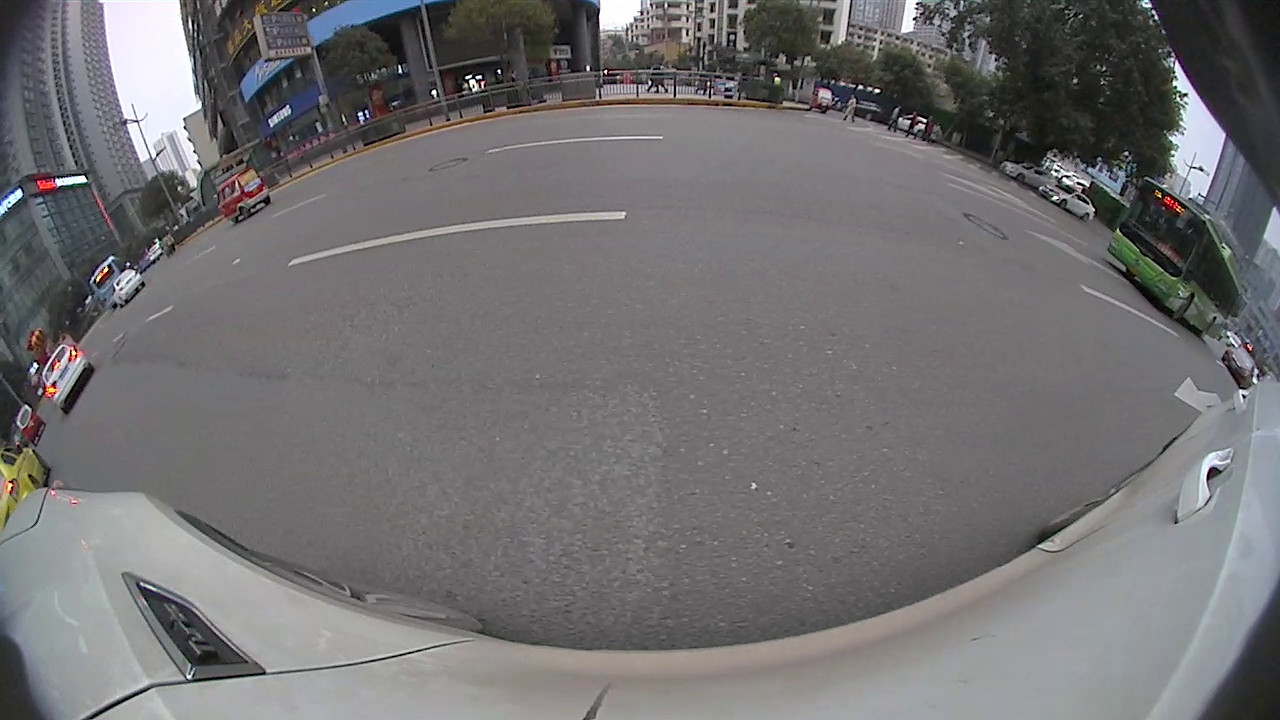bus: (1107, 175, 1248, 343), (91, 257, 128, 308)
car: (0, 443, 51, 532), (40, 344, 96, 417), (1037, 183, 1097, 221), (1000, 162, 1061, 193), (1221, 346, 1261, 388), (109, 268, 146, 308)
front: (1169, 288, 1197, 325), (1012, 170, 1028, 185), (1057, 197, 1071, 211)
rear: (238, 206, 252, 222), (1079, 211, 1093, 227)
rider: (215, 169, 271, 223)
